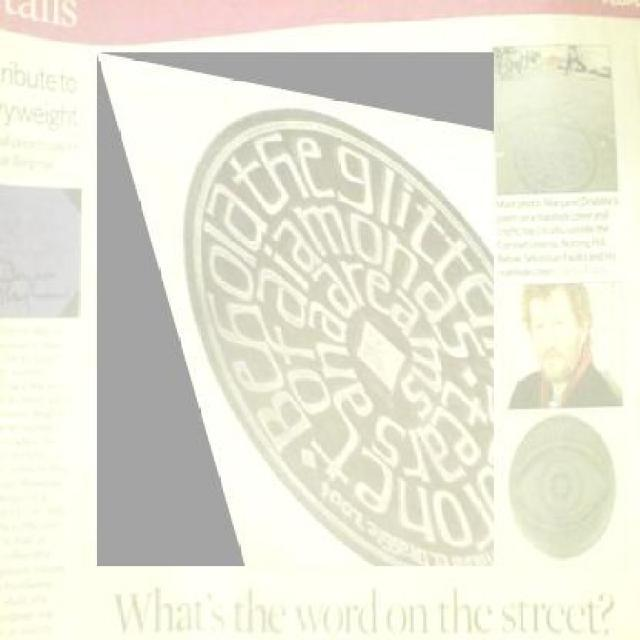Manhole: (97, 52, 494, 566)
